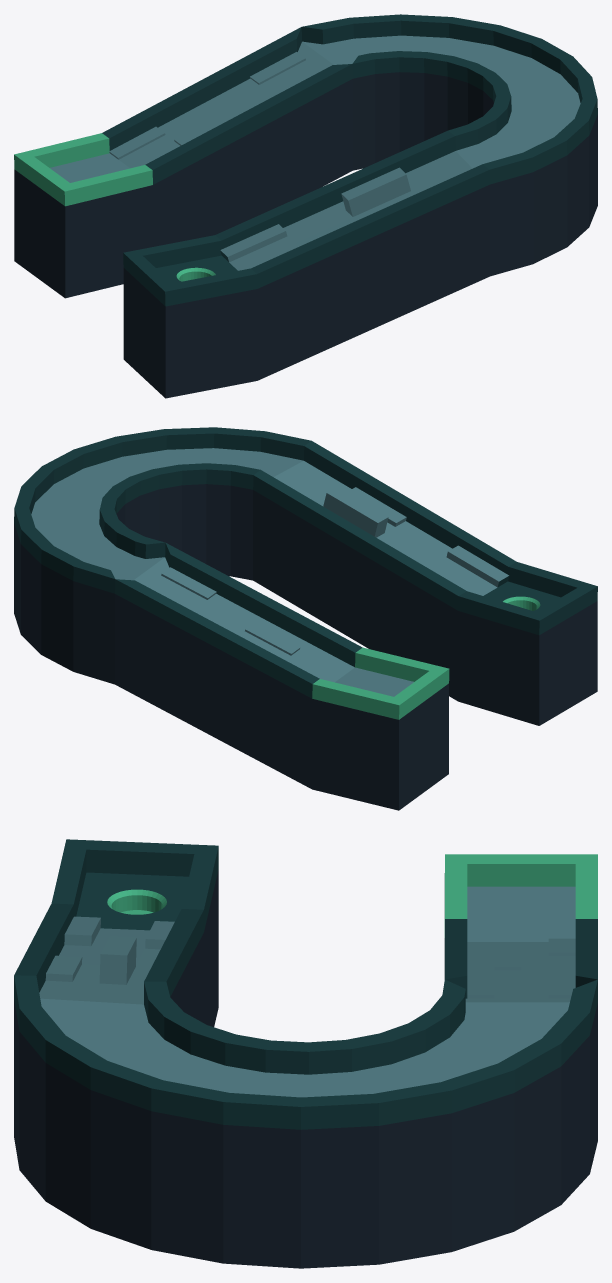
The model's file is map2.fbx.
3 views of the same model, one above another, from view 1: azimuth 30°, elevation 25°; view 2: azimuth 150°, elevation 25°; view 3: azimuth 270°, elevation 25° (orthographic). The views are drawn at different scales.
Parts seen in each view (by area): view 1: Cube.004; view 2: Cube.004; view 3: Cube.004.
Part boxes in pixels (x1,y1,x2,y2): Cube.004: (14,14,597,398); Cube.004: (14,427,597,810); Cube.004: (14,839,597,1268).
Size of the model in its own units: 140 by 45.99 by 96.78.
Materials: 1 (1 with a texture image).
